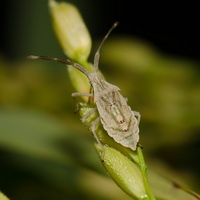insect: (27, 22, 139, 149)
